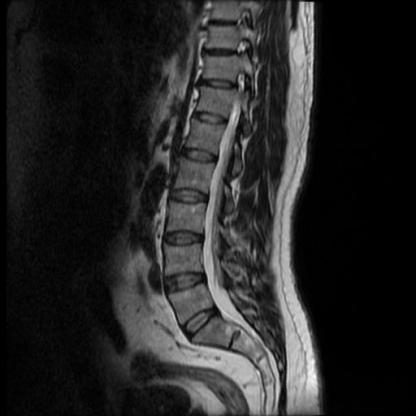Disc Bulgerotation: (180, 311, 222, 335)
Disc Relaxationrotation: (161, 185, 211, 301), (180, 311, 221, 334)
